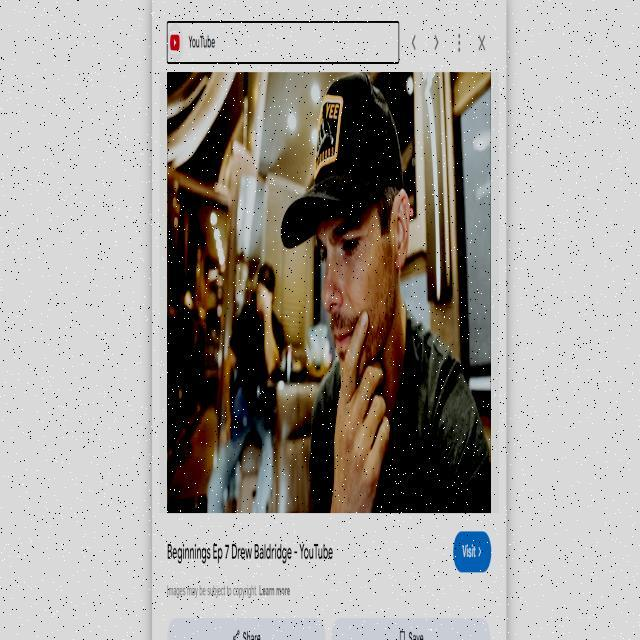face_no_mask: (317, 197, 409, 371)
